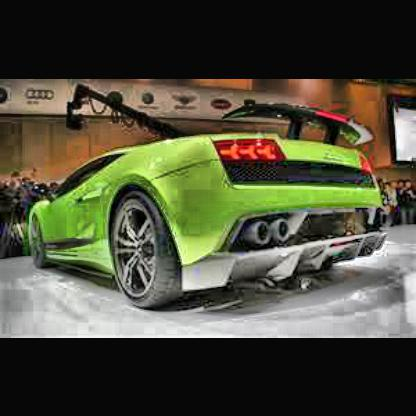Lamborghini Gallardo LP 570-4 Superleggera 2012: (30, 107, 390, 310)
